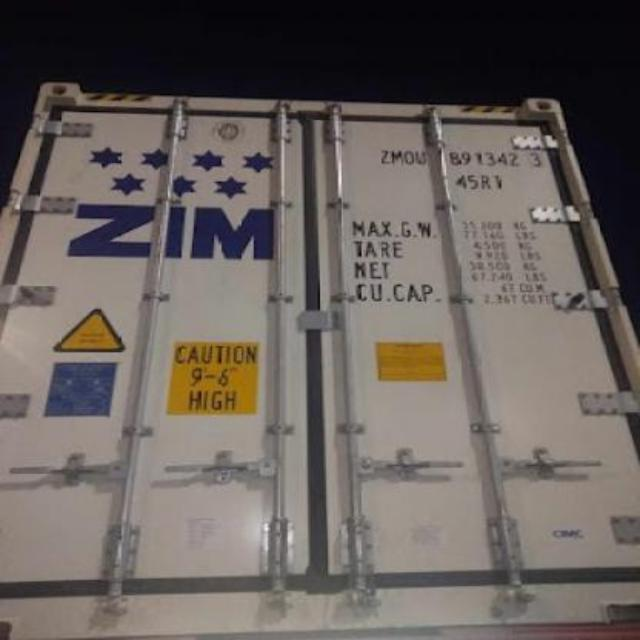1: (472, 149, 486, 167)
2: (508, 151, 520, 169)
3: (486, 150, 498, 168), (530, 152, 542, 168)
4: (498, 149, 508, 167)
8: (446, 152, 462, 164)
9: (458, 150, 474, 166)
M: (392, 149, 406, 167)
O: (404, 150, 416, 166)
U: (414, 148, 428, 164)
Z: (378, 146, 390, 166)
